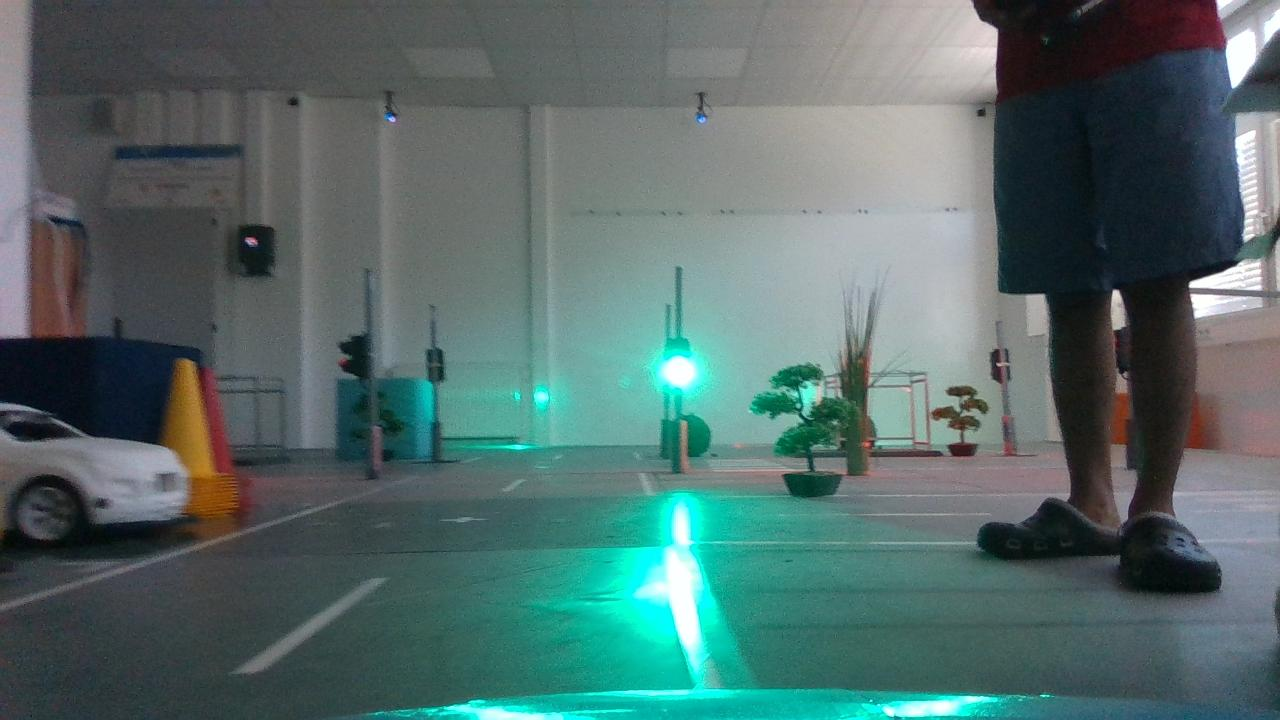traffic_light_green: (647, 325, 707, 406)
